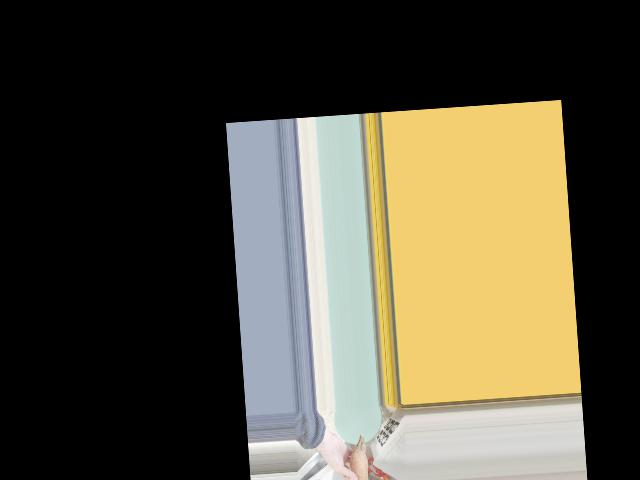sweet_potato: (342, 435, 369, 480)
